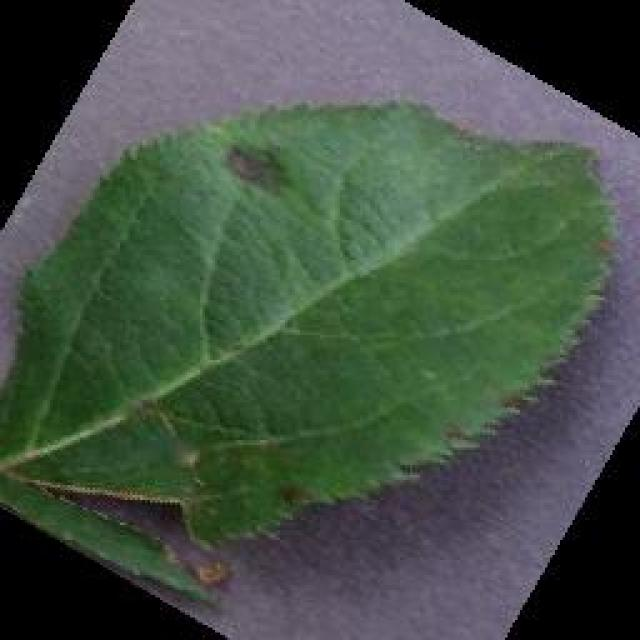Apple___Apple_scab: (0, 94, 626, 615)
